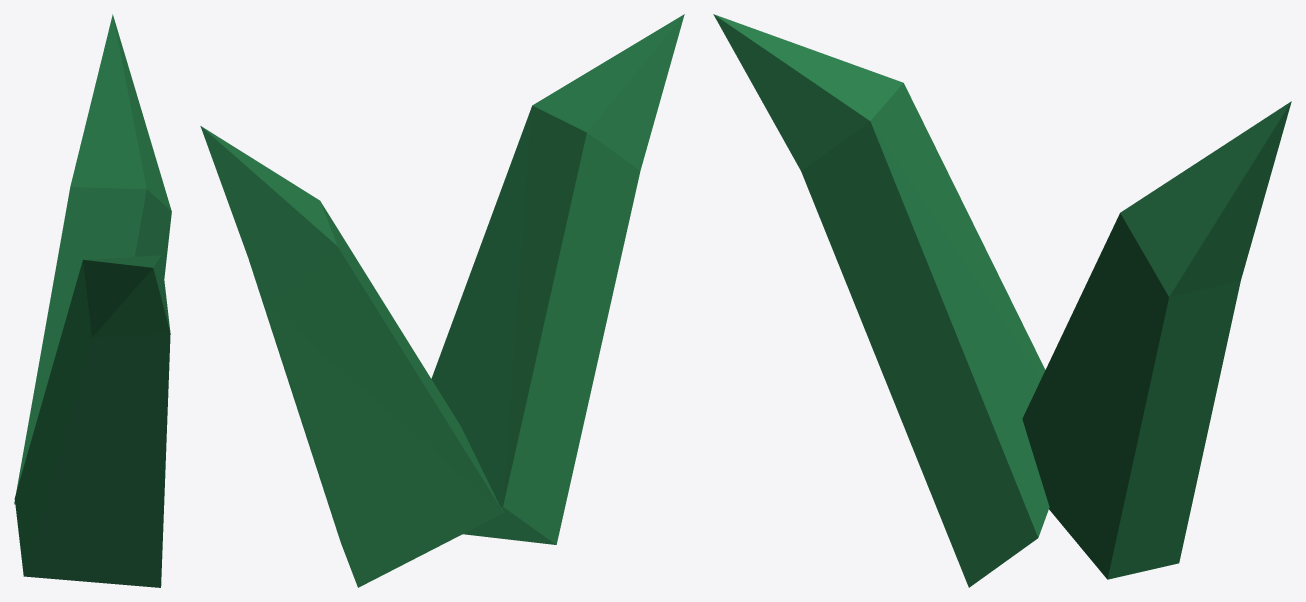
File: SM_Env_Grass_02-optimized.glb
The picture shows the model from 3 angles, left to right: view 1: azimuth 30°, elevation 25°; view 2: azimuth 150°, elevation 25°; view 3: azimuth 270°, elevation 25°; orthographic projection. The views are drawn at different scales.
Parts seen in each view (by area): view 1: SM_Env_Grass_02; view 2: SM_Env_Grass_02; view 3: SM_Env_Grass_02.
Boxes of the visible parts, left/top/right/bottom form: SM_Env_Grass_02: left=14, top=14, right=171, bottom=587; SM_Env_Grass_02: left=200, top=14, right=684, bottom=587; SM_Env_Grass_02: left=713, top=14, right=1291, bottom=587.
Size of the model in its own units: 1.78 by 3.49 by 3.4.
1 material, 1 textured.
